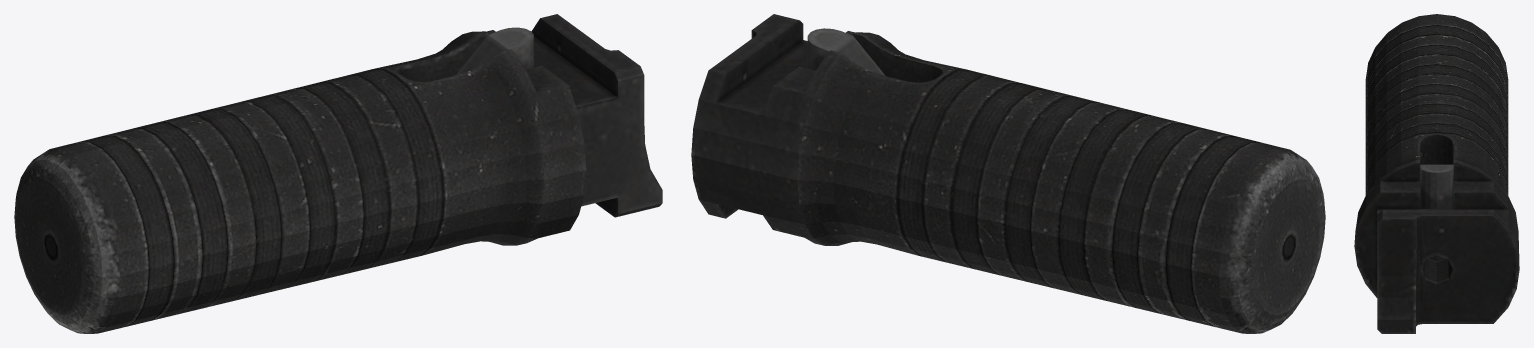
The picture shows the model from 3 angles, left to right: view 1: azimuth 30°, elevation 25°; view 2: azimuth 150°, elevation 25°; view 3: azimuth 270°, elevation 25°; orthographic projection. The views are drawn at different scales.
Parts seen in each view (by area): view 1: TW_661cec09b2c6356b4d0c7a36_PZ_Import; view 2: TW_661cec09b2c6356b4d0c7a36_PZ_Import; view 3: TW_661cec09b2c6356b4d0c7a36_PZ_Import.
Part boxes in pixels (x1,y1,x2,y2): TW_661cec09b2c6356b4d0c7a36_PZ_Import: (14, 14, 662, 333); TW_661cec09b2c6356b4d0c7a36_PZ_Import: (691, 14, 1325, 333); TW_661cec09b2c6356b4d0c7a36_PZ_Import: (1354, 14, 1519, 333).
Size of the model in its own units: 0.0301 by 0.0101 by 0.00991.
Materials: 1 (1 with a texture image).
